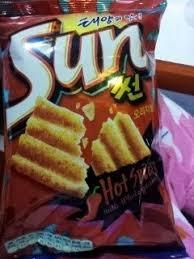snack: (0, 0, 191, 259)
